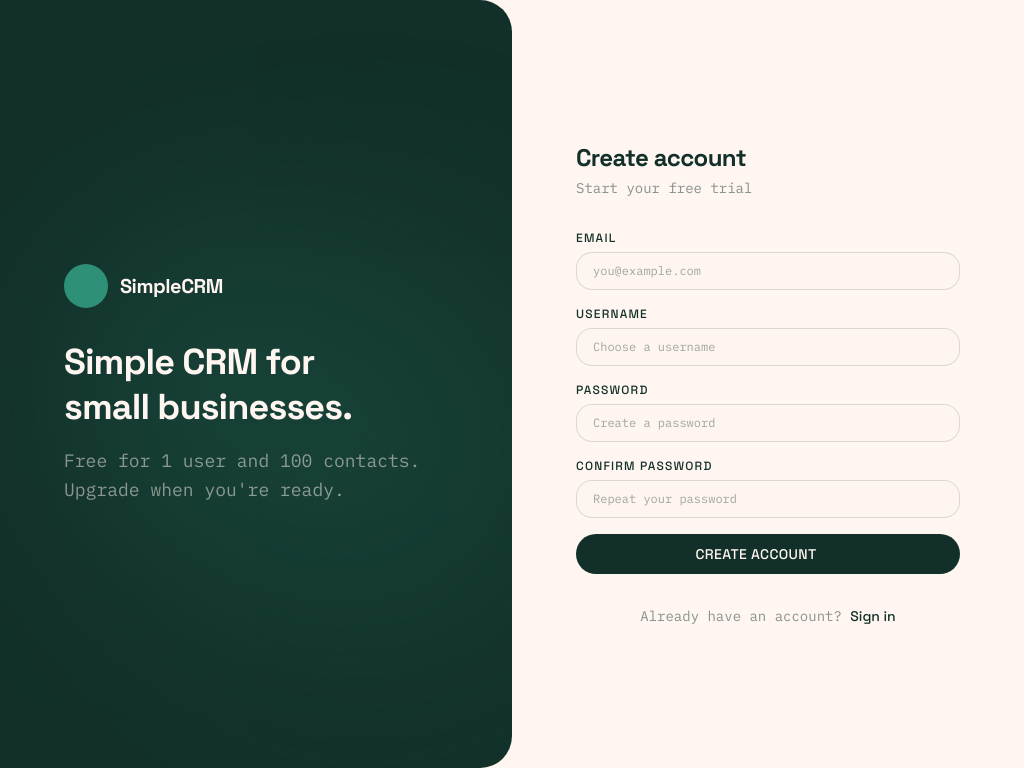
Register › displays error message on failed registration
Type "existing@test.com" into the field labelled "Email" at [768, 271], box [576, 252, 960, 290]
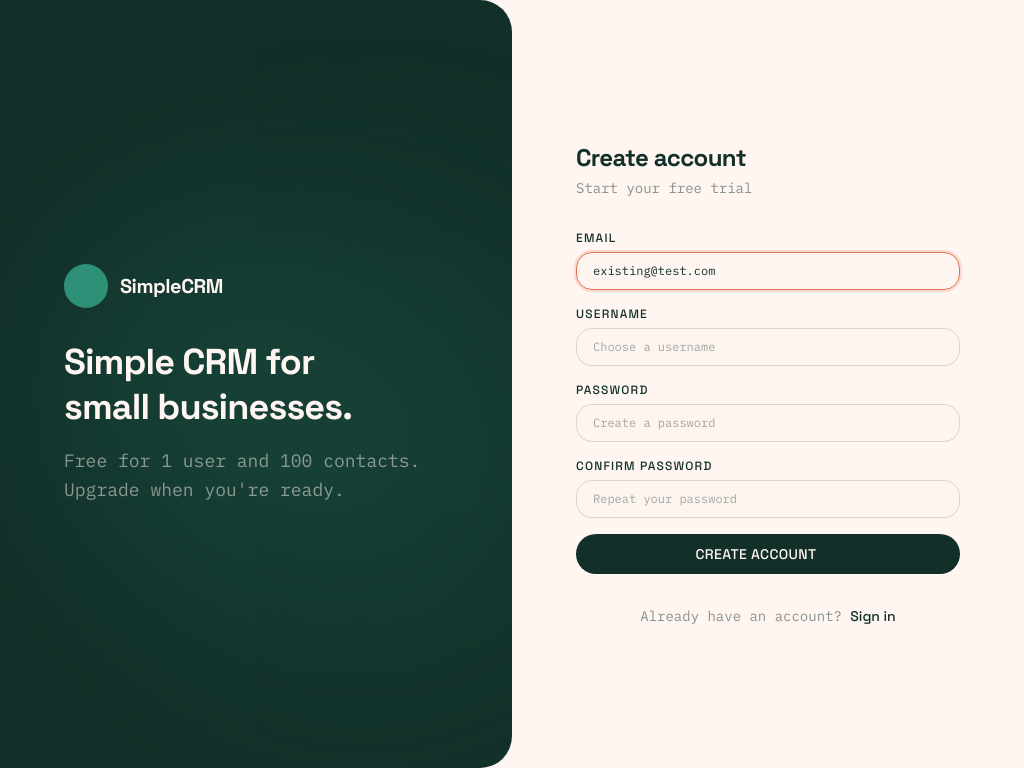
Type "newuser" into the field labelled "Username" at [768, 347], box [576, 328, 960, 366]
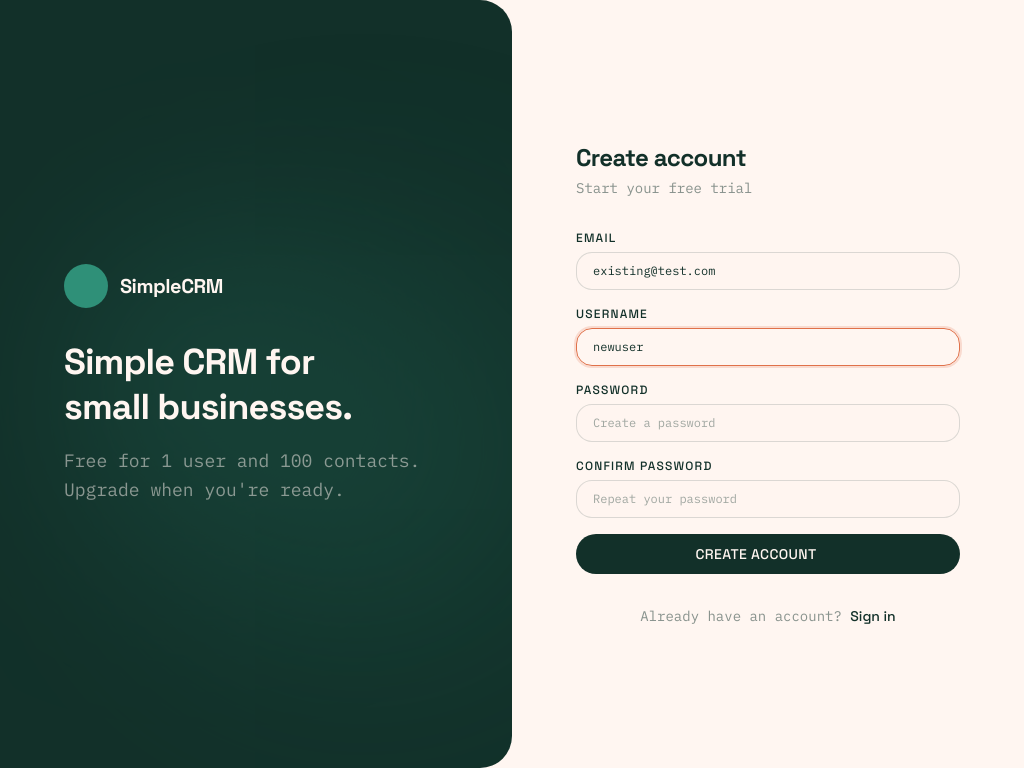
Type "Password123" into the password field labelled "Password" at [768, 423], box [576, 404, 960, 442]
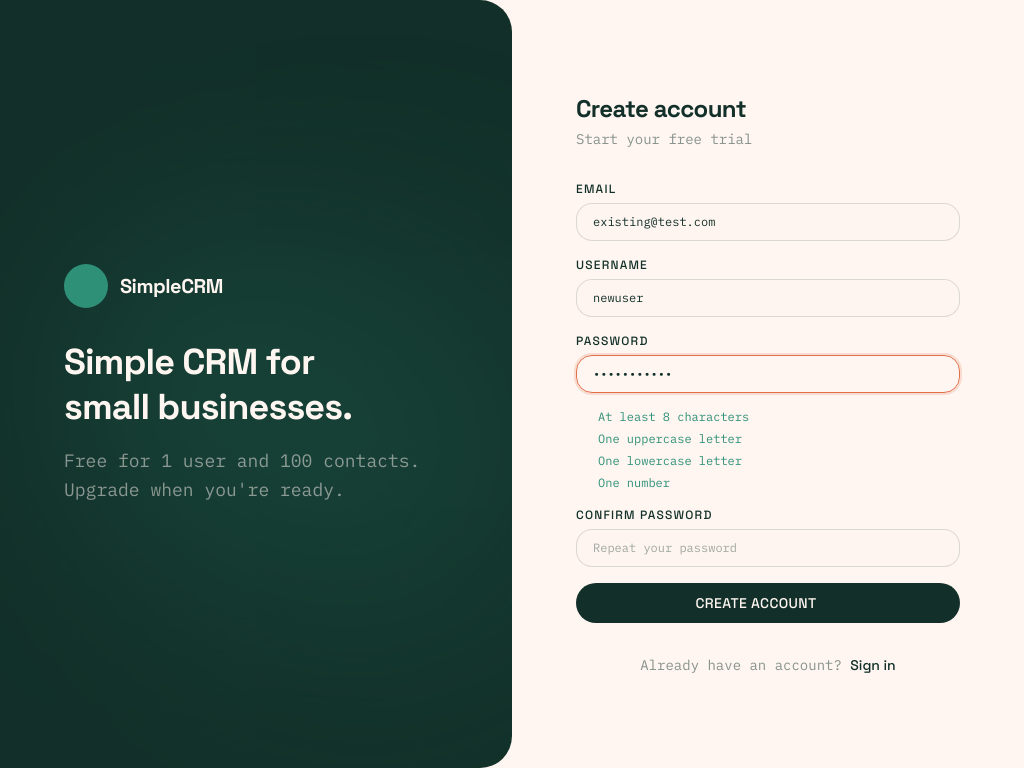
Type "Password123" into the password field labelled "Confirm password" at [768, 548], box [576, 529, 960, 567]
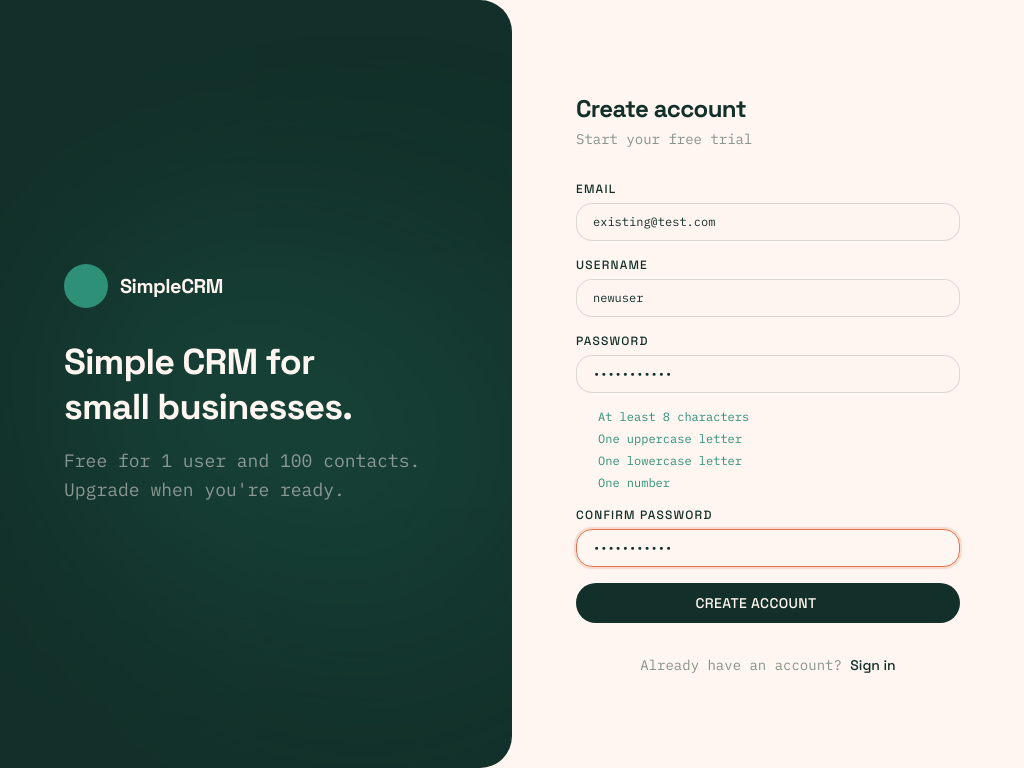
Click the button "Create account" at [768, 603], box [576, 583, 960, 623]
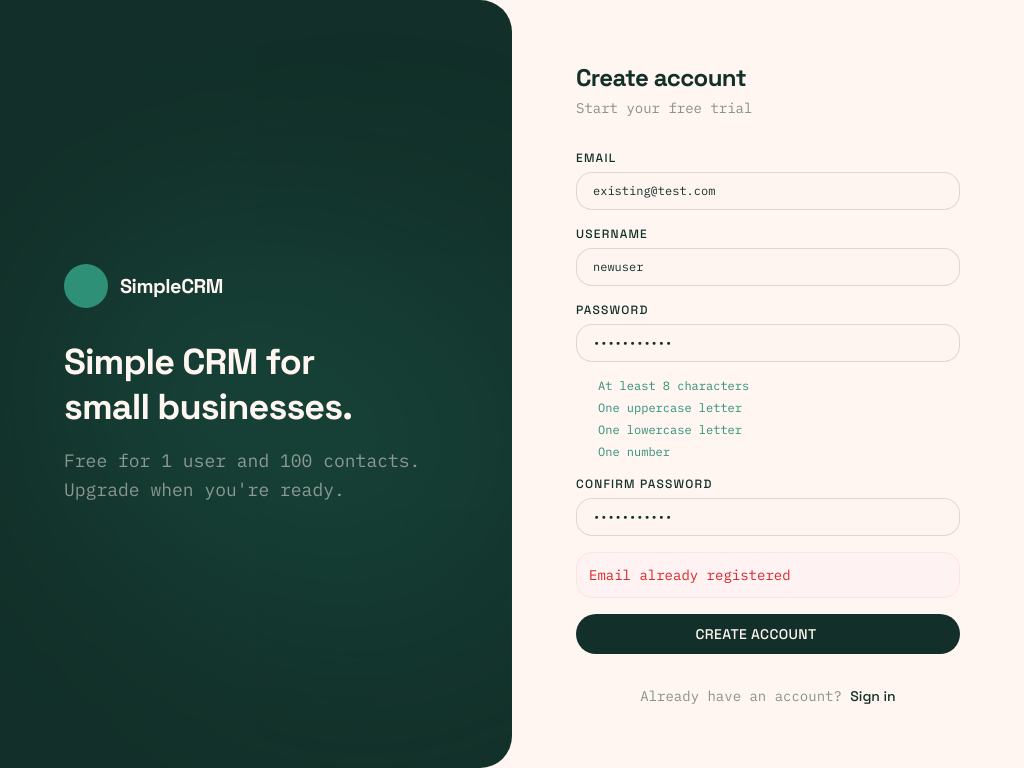
Now the text "Email already registered" is shown, box [576, 552, 960, 598]
